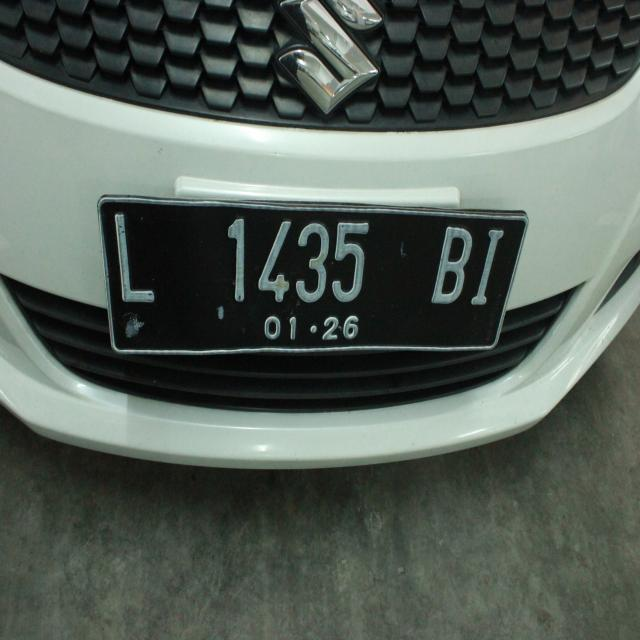1: (214, 210, 253, 314)
3: (290, 204, 334, 310)
4: (252, 206, 296, 307)
5: (330, 203, 376, 308)
B: (424, 209, 474, 317)
I: (468, 210, 509, 320)
L: (104, 202, 170, 322)
